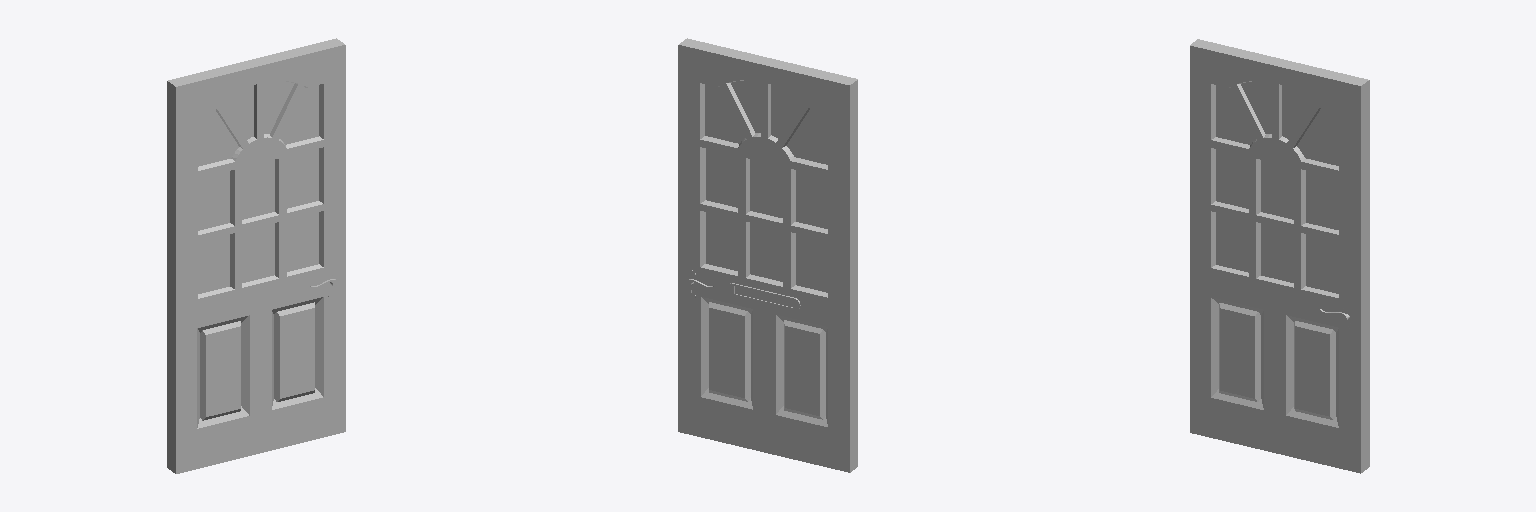
File: door2_000002.obj
3 views of the same model, side by side, from view 1: azimuth 30°, elevation 25°; view 2: azimuth 150°, elevation 25°; view 3: azimuth 330°, elevation 25° (orthographic).
Visible parts, largest first — view 1: Door.000_Door.004; view 2: Door.000_Door.004; view 3: Door.000_Door.004.
Boxes of the visible parts, x1=… form: Door.000_Door.004: x1=167, y1=38, x2=345, y2=473; Door.000_Door.004: x1=678, y1=38, x2=857, y2=472; Door.000_Door.004: x1=1190, y1=39, x2=1369, y2=473.
Size of the model in its own units: 0.74 by 1.6 by 0.1156.